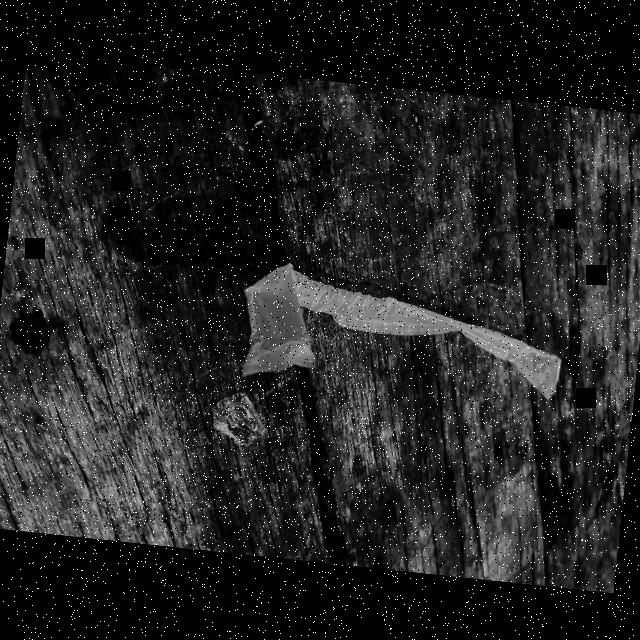scrap_plastic: (230, 246, 568, 420), (210, 383, 269, 445)
